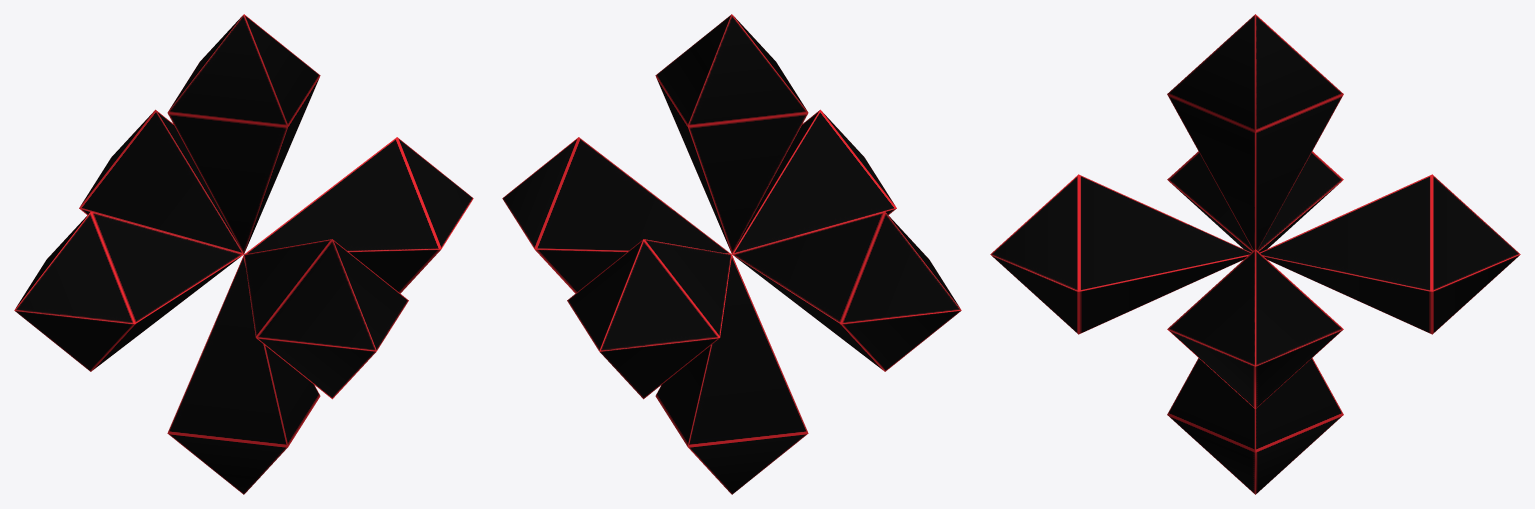
Rendered from ILOVEYOU.fbx.
3 renders of one model, left to right at view 1: azimuth 30°, elevation 25°; view 2: azimuth 150°, elevation 25°; view 3: azimuth 270°, elevation 25°, orthographic.
Parts seen in each view (by area): view 1: polySurface12, polySurface7, polySurface11, polySurface8, polySurface9, polySurface10; view 2: polySurface12, polySurface7, polySurface11, polySurface10, polySurface9, polySurface8; view 3: polySurface8, polySurface10, polySurface12, polySurface9, polySurface11, polySurface7.
Part boxes in pixels (box(x1,y1,x2,y2)): polySurface12: box(167, 14, 320, 253); polySurface7: box(14, 212, 243, 371); polySurface11: box(167, 255, 320, 494); polySurface8: box(244, 239, 408, 399); polySurface9: box(244, 137, 473, 293); polySurface10: box(79, 109, 243, 254); polySurface12: box(655, 14, 808, 253); polySurface7: box(732, 212, 961, 371); polySurface11: box(655, 255, 808, 494); polySurface10: box(567, 239, 731, 399); polySurface9: box(502, 137, 731, 293); polySurface8: box(732, 109, 896, 254); polySurface8: box(990, 174, 1250, 334); polySurface10: box(1260, 174, 1520, 334); polySurface12: box(1167, 14, 1343, 250); polySurface9: box(1167, 249, 1343, 408); polySurface11: box(1167, 358, 1343, 494); polySurface7: box(1167, 151, 1343, 252).
Size of the model in its own units: 6 by 6 by 6.
